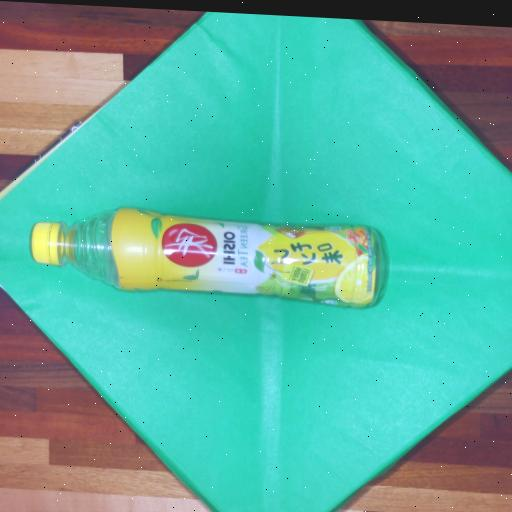bottle: (32, 208, 384, 307)
